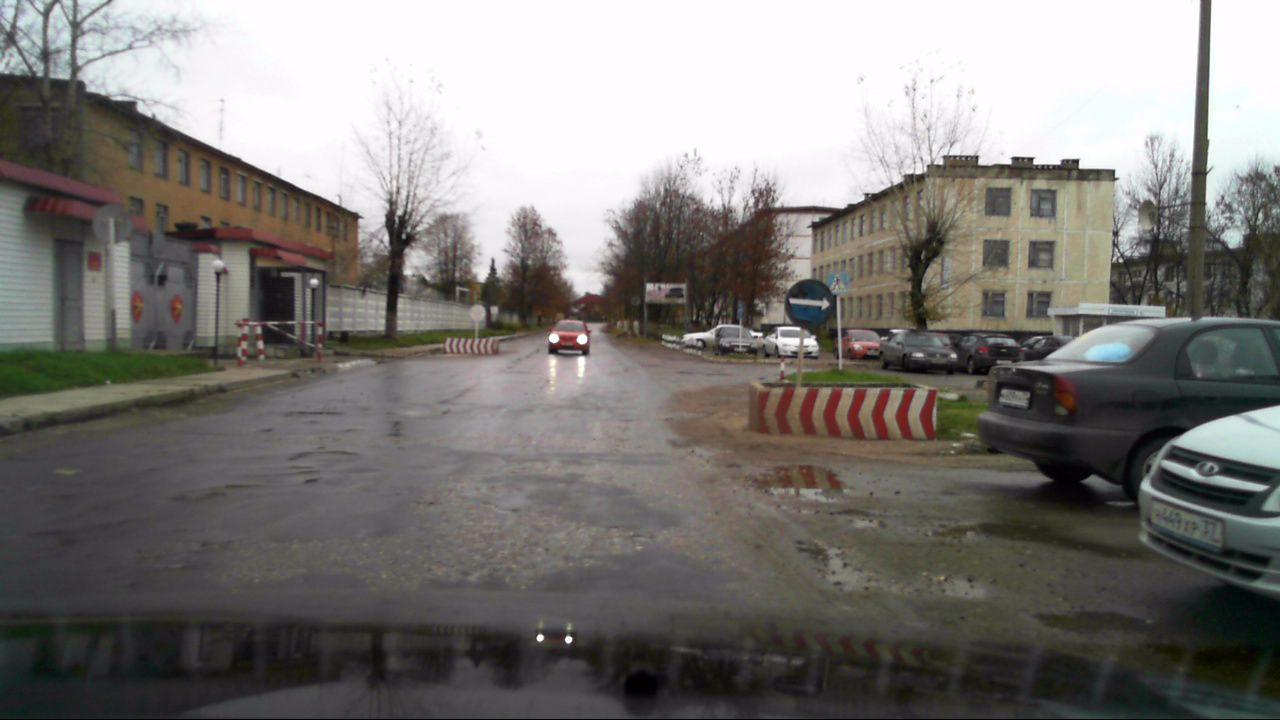Turn Right: (786, 279, 835, 324)
